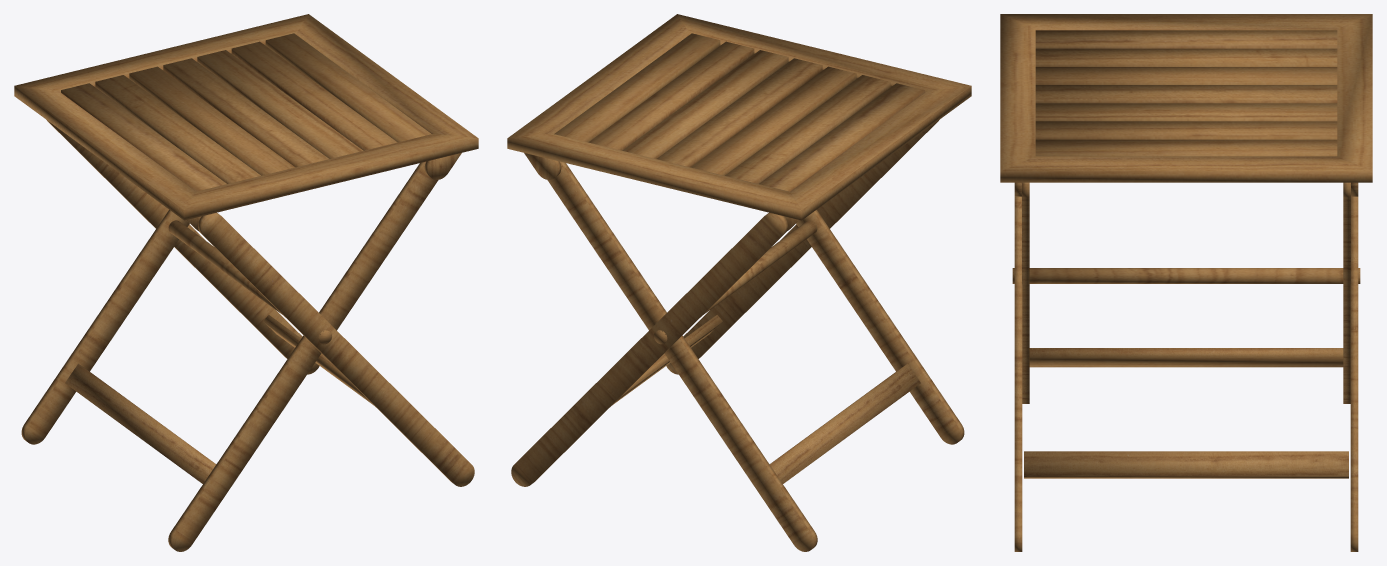
Rendered from mesa-vereda.dae.
The picture shows the model from 3 angles, left to right: view 1: azimuth 30°, elevation 25°; view 2: azimuth 150°, elevation 25°; view 3: azimuth 270°, elevation 25°; orthographic projection. The views are drawn at different scales.
Visible parts, largest first — view 1: Cube.001; view 2: Cube.001; view 3: Cube.001.
Part boxes in pixels (x1,y1,x2,y2): Cube.001: (14,14,478,551); Cube.001: (507,14,971,551); Cube.001: (1000,14,1372,551).
Size of the model in its own units: 2.04 by 2 by 2.28.
Materials: 1 (1 with a texture image).
